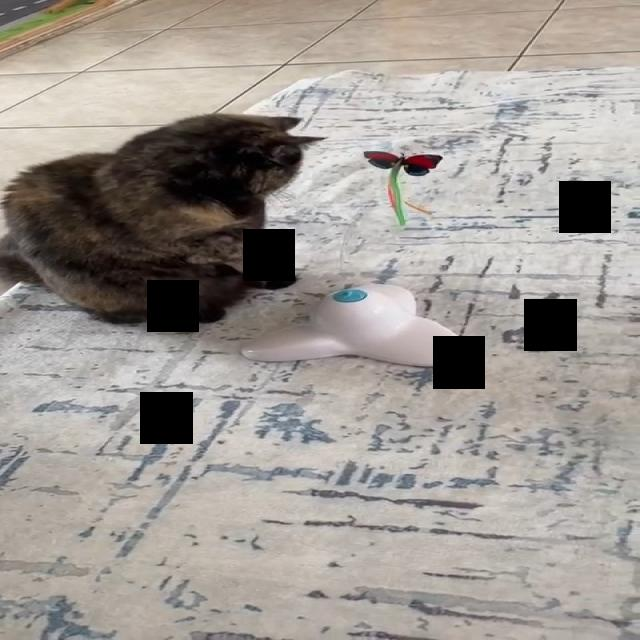authorized: (0, 112, 328, 324)
